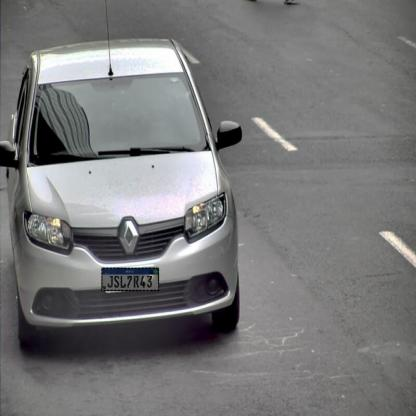PlacaM: (102, 268, 159, 291)
